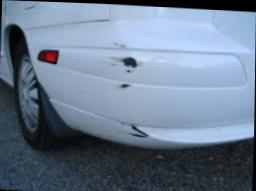Bumper: (88, 25, 170, 148)
